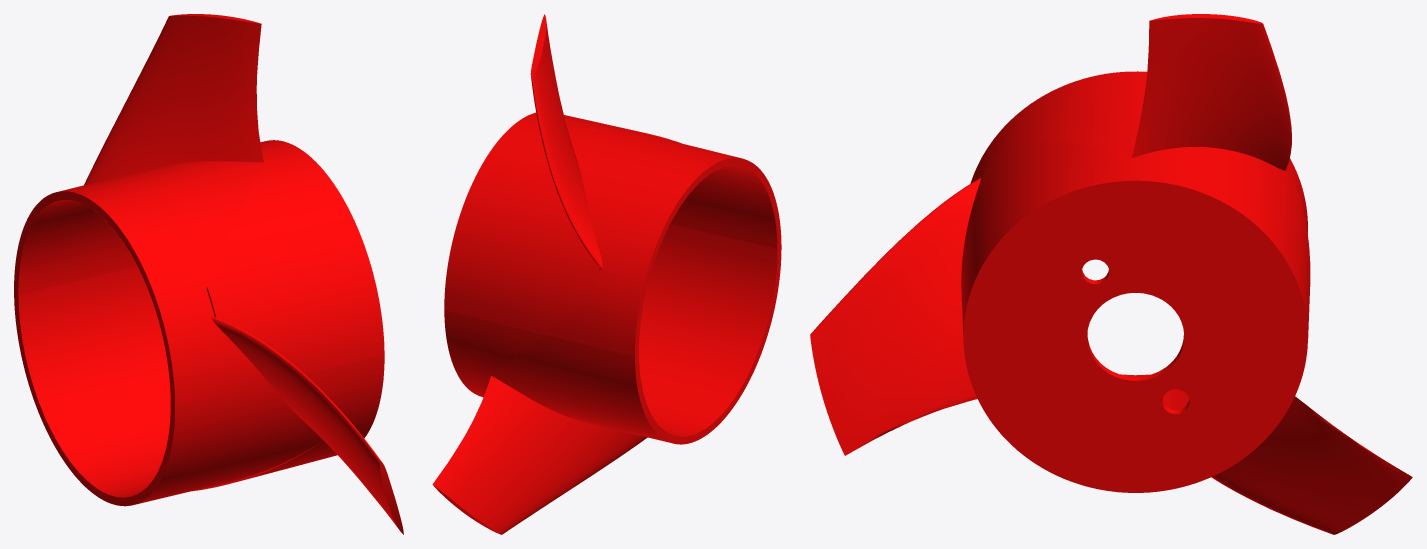
The model's file is t200_propccw.dae.
3 renders of one model, left to right at view 1: azimuth 30°, elevation 25°; view 2: azimuth 150°, elevation 25°; view 3: azimuth 270°, elevation 25°, orthographic. The views are drawn at different scales.
Parts seen in each view (by area): view 1: PropCCW; view 2: PropCCW; view 3: PropCCW.
Boxes of the visible parts, bbox=[...] form: PropCCW: bbox=[14, 14, 403, 534]; PropCCW: bbox=[432, 14, 781, 534]; PropCCW: bbox=[810, 14, 1412, 534].
Bounding box in the file's own units: 0.667 × 1.56 × 1.52.
